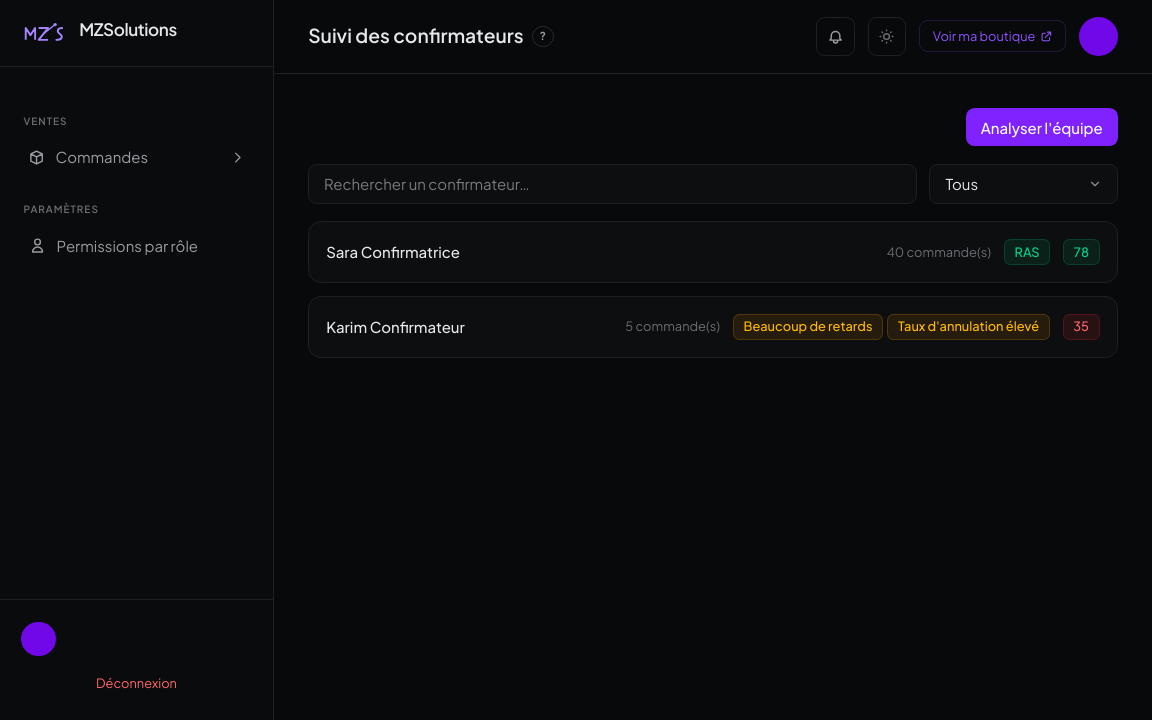
Test: ConfirmateurMonitoringPage › déplie la fiche détaillée au clic sur une ligne
The image size is (1152, 720).
Click the text "Karim Confirmateur" at (396, 327), box [326,316,465,338]
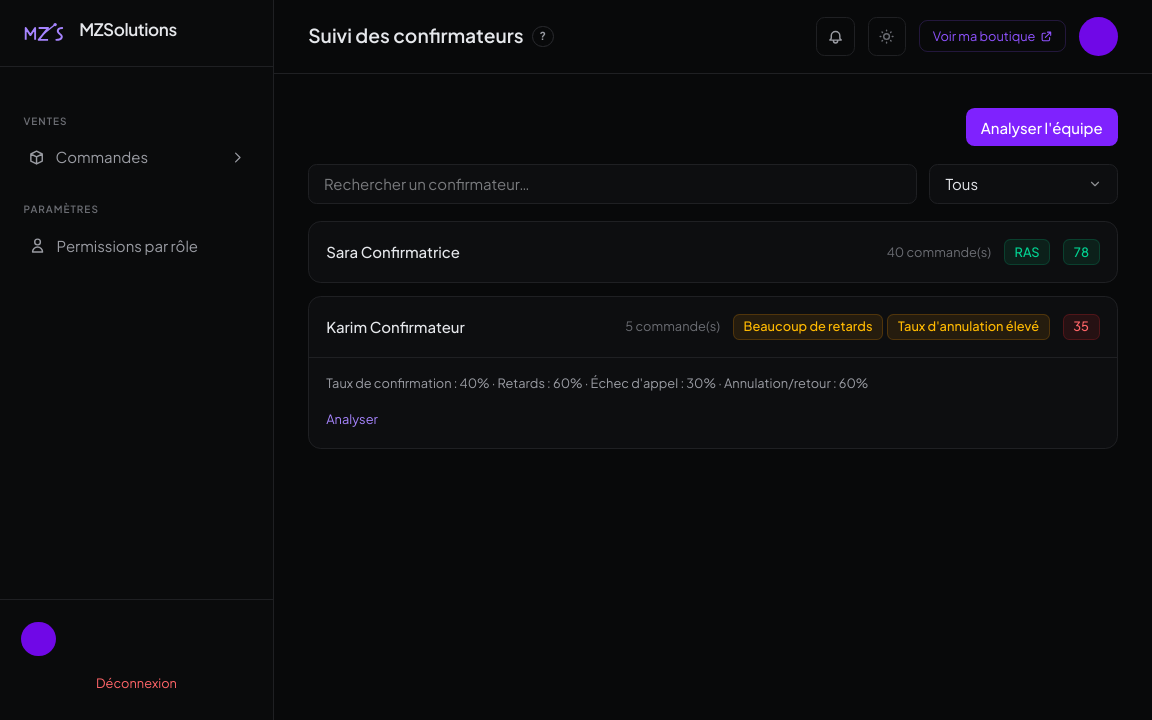
Expected: the text "40%" is shown, [326,375,551,391]
